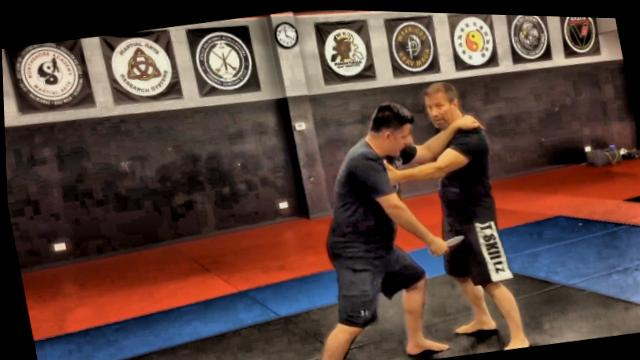knife: (422, 228, 467, 257)
